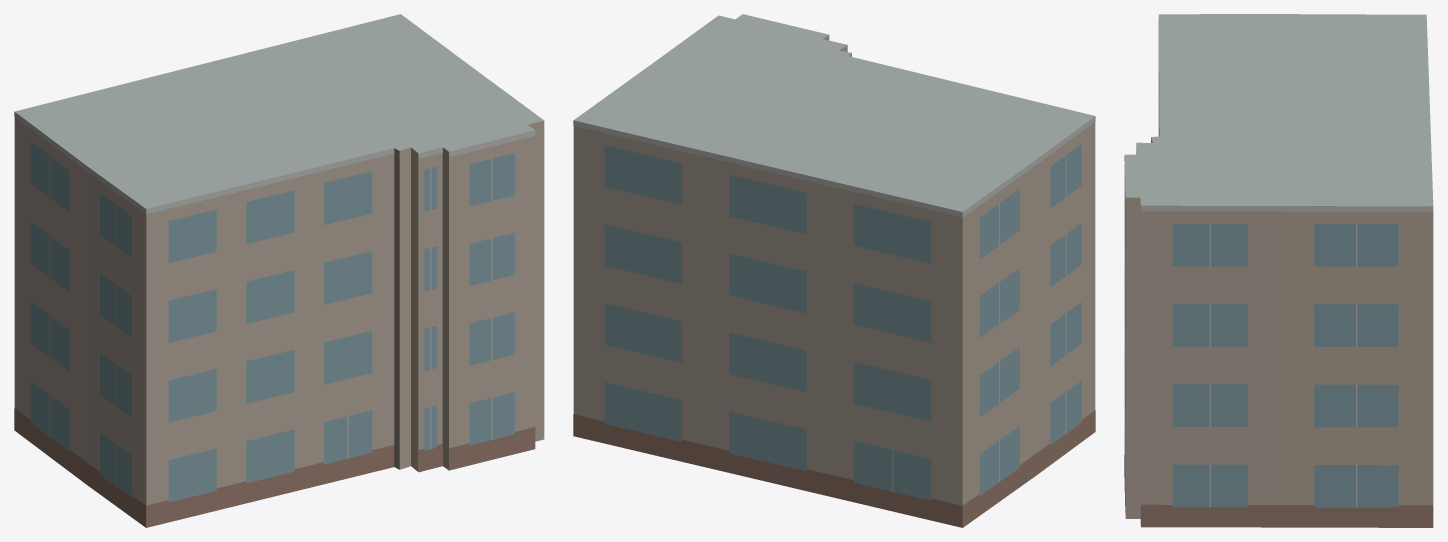
Rendered from survey-upis-32772712.glb.
3 views of the same model, side by side, from view 1: azimuth 30°, elevation 25°; view 2: azimuth 150°, elevation 25°; view 3: azimuth 270°, elevation 25° (orthographic).
Visible parts, largest first — view 1: survey-upis-32772712.tmp; view 2: survey-upis-32772712.tmp; view 3: survey-upis-32772712.tmp.
Part boxes in pixels (x1,y1,x2,y2): survey-upis-32772712.tmp: [14, 14, 544, 527]; survey-upis-32772712.tmp: [573, 14, 1095, 527]; survey-upis-32772712.tmp: [1124, 14, 1433, 527].
Size of the model in its own units: 18.24 by 14.2 by 12.37.
